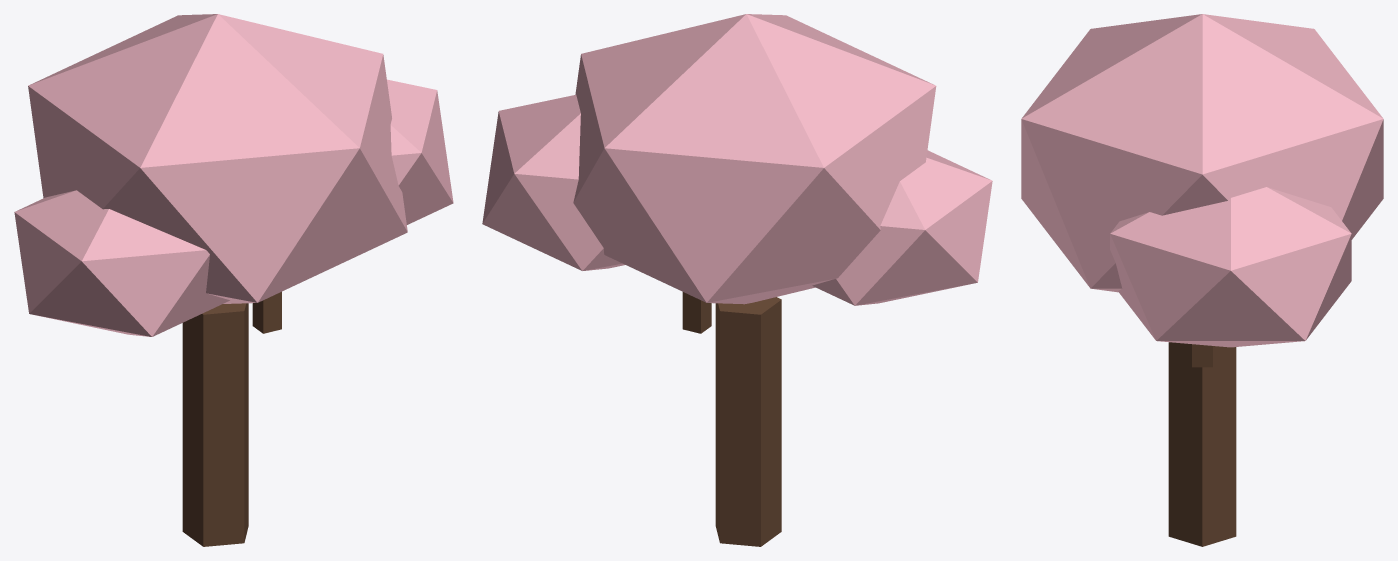
File: tree_sakura.fbx
The picture shows the model from 3 angles, left to right: view 1: azimuth 30°, elevation 25°; view 2: azimuth 150°, elevation 25°; view 3: azimuth 270°, elevation 25°; orthographic projection.
Parts seen in each view (by area): view 1: tree_sakura; view 2: tree_sakura; view 3: tree_sakura.
Boxes of the visible parts, x1,y1,x2,y2 form: tree_sakura: (14, 14, 453, 546); tree_sakura: (482, 14, 992, 546); tree_sakura: (1021, 14, 1383, 546).
Size of the model in its own units: 3.6 by 4.03 by 2.55.
1 material, 1 textured.
